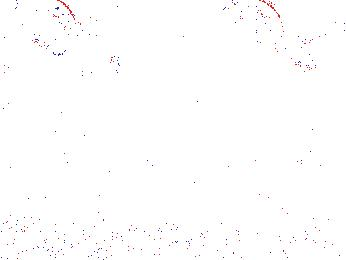moon jellyfish: (60, 1, 130, 70), (15, 1, 77, 58), (223, 1, 285, 58), (63, 40, 120, 92), (290, 20, 346, 71)
